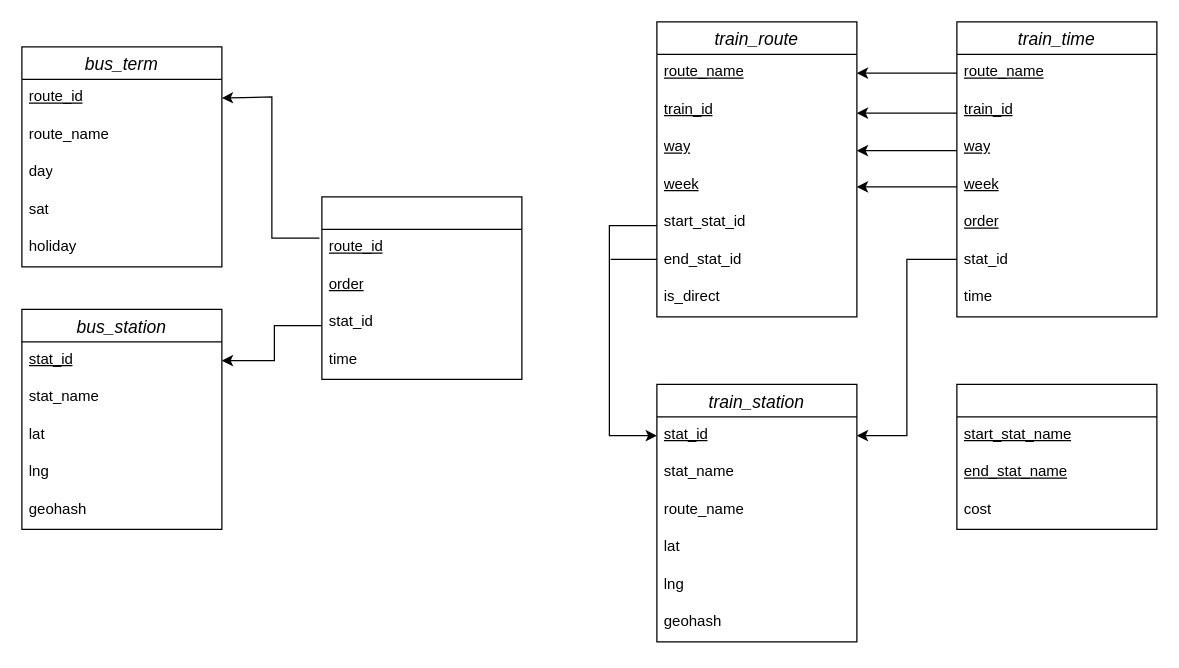
Image size: 1179x668. Some labels were removed from this diagram. The shapes that lost their labels are listed below. From the top down, each one's box as (x1, y1, x2, y2) in pixels, then its label:
(321, 196, 522, 379): bus_last_time
(956, 383, 1157, 529): train_cost
